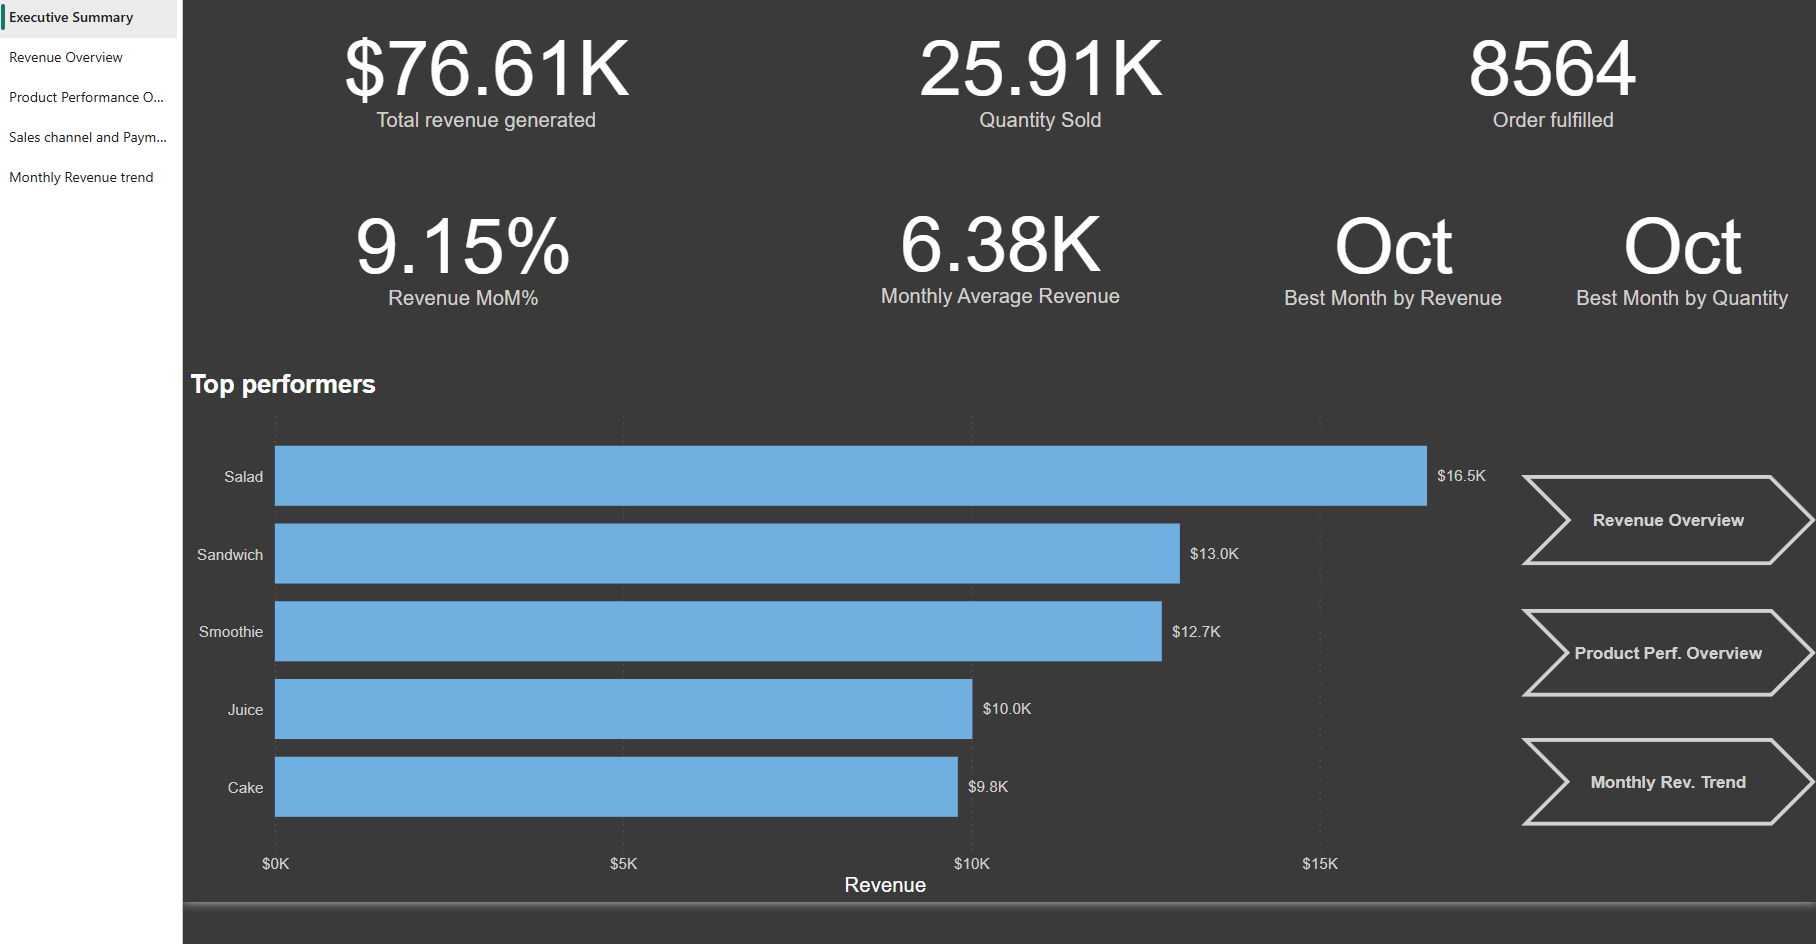

This screenshot's page, from the dashboard's own definition file:
{"tool":"powerbi","page":{"name":"Executive Summary","canvas":[1280,720],"ordinal":0},"visuals":[{"type":"card","fields":{"Values":["Sum(cafesales.revenue)"]},"box":[0,0,475.5,140.3],"z":0},{"type":"card","fields":{"Values":["Sum(cafesales.quantity)"]},"box":[475.6,0,392.9,140.1],"z":1000},{"type":"card","fields":{"Values":["Count(cafesales.transaction_id)"]},"box":[868.6,0,411.4,140.1],"z":2000},{"type":"card","fields":{"Values":["_Measures.Monthly_avg_rev"]},"box":[440.1,136.3,400.8,143.3],"z":3000},{"type":"card","fields":{"Values":["_Measures.revenue MoM%"]},"box":[0,140.3,440.1,139.3],"z":4000},{"type":"card","fields":{"Values":["Min(_Measures.Best_month)"]},"box":[840.9,140.3,215,139.3],"z":5000},{"type":"card","fields":{"Values":["Min(_Measures.best_qnt_month)"]},"box":[1071,140.3,209,139.3],"z":6000},{"type":"barChart","title":"Top performers","fields":{"Category":["cafesales.item"],"Y":["Sum(cafesales.revenue)"]},"box":[0,303.2,1049.2,417.3],"z":7000},{"type":"actionButton","box":[1048.8,385.6,231.2,70.7],"z":9000},{"type":"actionButton","box":[1048.8,490.6,231.2,68.6],"z":10000},{"type":"actionButton","box":[1048.8,591.5,231.2,68.6],"z":11000}]}

Visuals, with their boxes on the page's 1280x720 design canvas (x1, y1, x2, y2). These are canvas units, not pixel positions in the 1816x944 screenshot, which may show the page scaled, cropped or inside an application window:
card - Sum(cafesales.revenue): 0,0,476,140
card - Sum(cafesales.quantity): 476,0,868,140
card - Count(cafesales.transaction_id): 869,0,1280,140
card - _Measures.Monthly_avg_rev: 440,136,841,280
card - _Measures.revenue MoM%: 0,140,440,280
card - Min(_Measures.Best_month): 841,140,1056,280
card - Min(_Measures.best_qnt_month): 1071,140,1280,280
"Top performers" barChart: 0,303,1049,720
actionButton: 1049,386,1280,456
actionButton: 1049,491,1280,559
actionButton: 1049,592,1280,660
